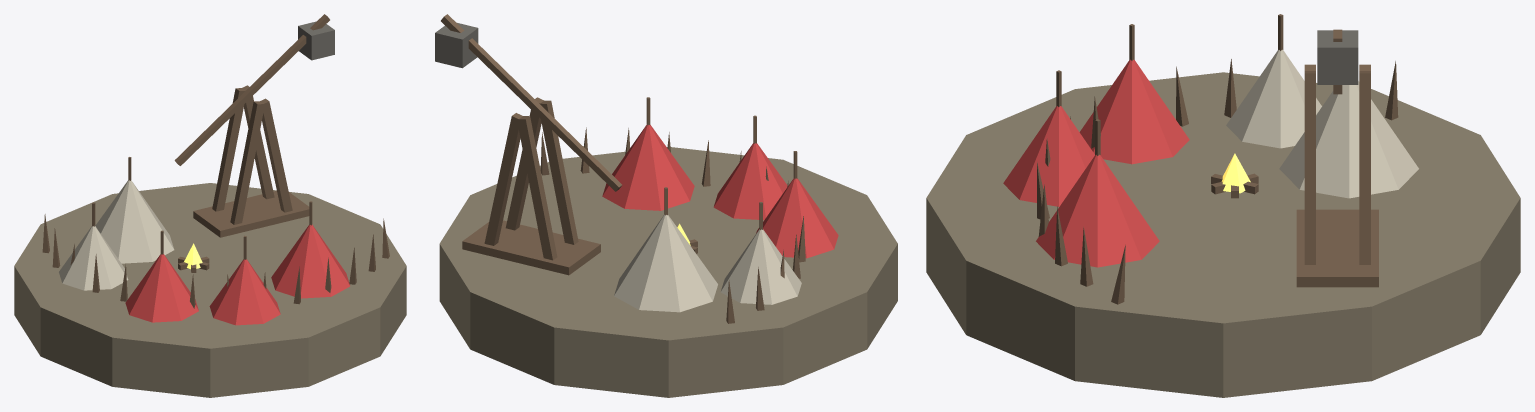
File: siege_camp.glb
The picture shows the model from 3 angles, left to right: view 1: azimuth 30°, elevation 25°; view 2: azimuth 150°, elevation 25°; view 3: azimuth 270°, elevation 25°; orthographic projection. The views are drawn at different scales.
Visible parts, largest first — view 1: siege_camp; view 2: siege_camp; view 3: siege_camp.
Part boxes in pixels (x1=…): siege_camp: x1=14, y1=14, x2=406, y2=397; siege_camp: x1=435, y1=14, x2=897, y2=397; siege_camp: x1=926, y1=14, x2=1520, y2=397.
Size of the model in its own units: 2.6 by 1.72 by 2.6.
